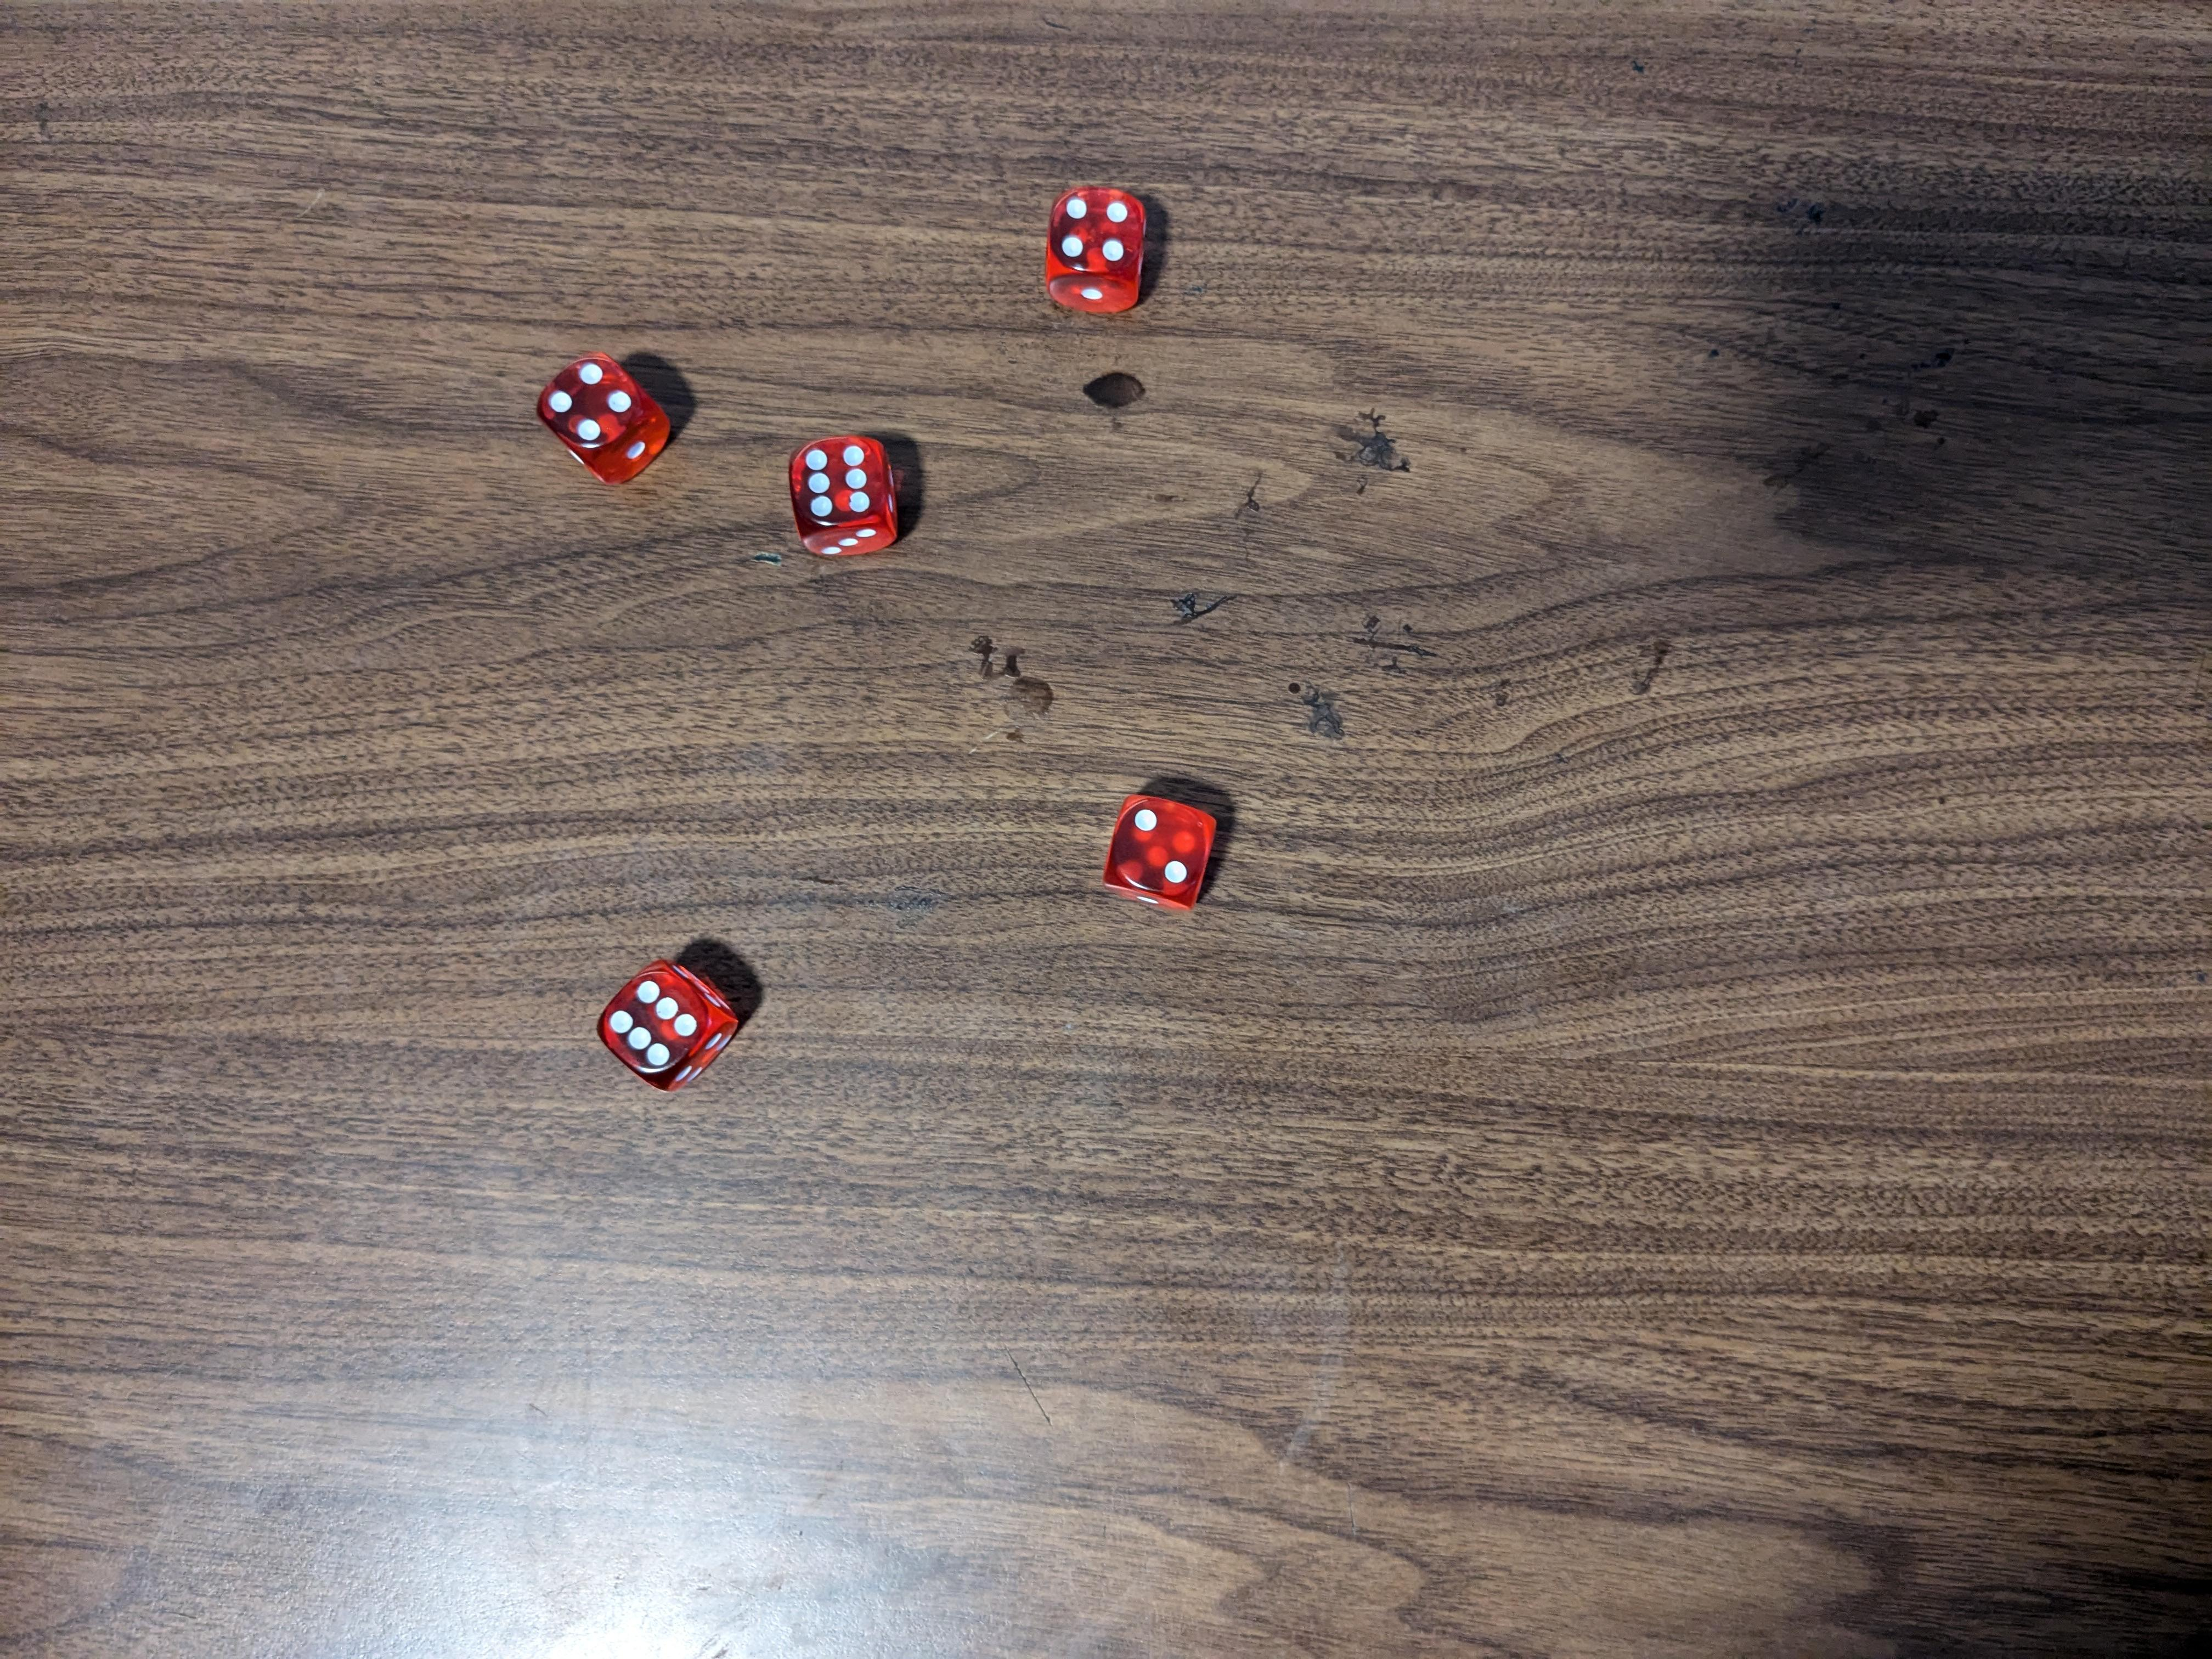four: (531, 345, 681, 486), (1035, 183, 1151, 314)
six: (592, 953, 747, 1096), (782, 434, 909, 559)
two: (1099, 788, 1224, 915)
